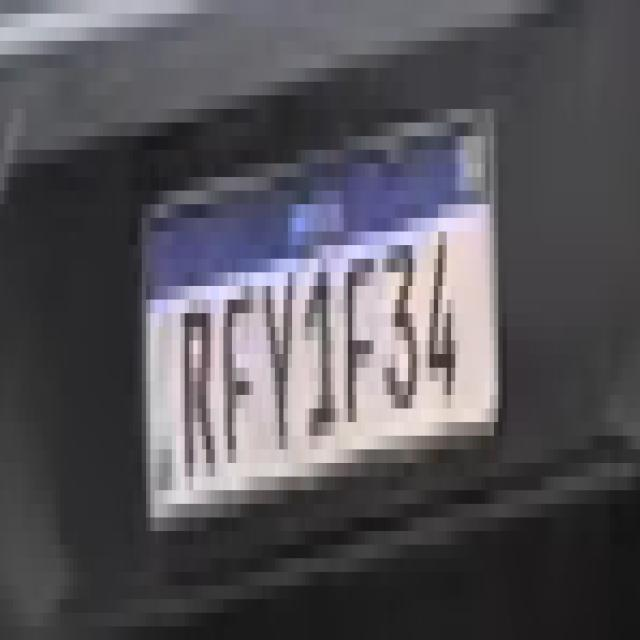Placa_mercosul_carro: (142, 110, 502, 529)
